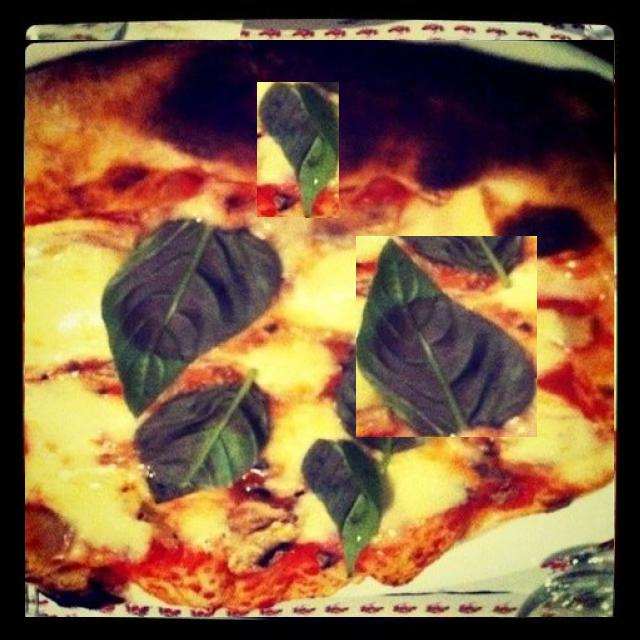basil: (356, 236, 537, 437), (177, 184, 305, 346), (371, 150, 505, 290), (257, 82, 339, 218)
pizza: (25, 40, 614, 617)
